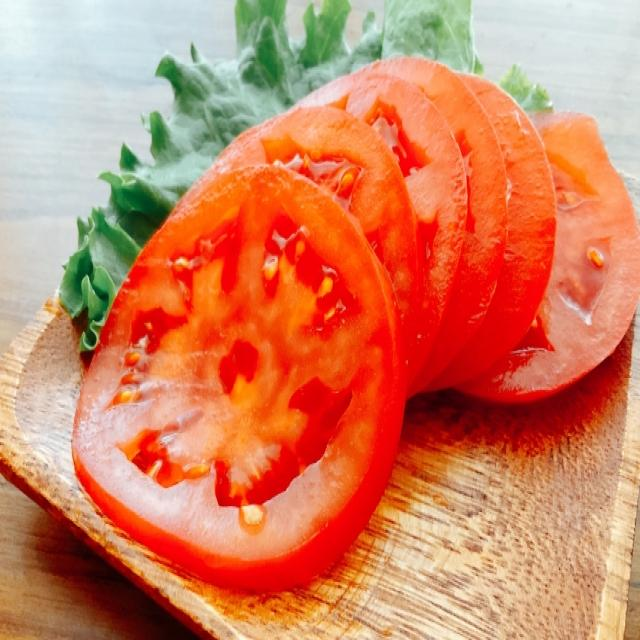Tomato: (66, 159, 410, 600), (218, 104, 426, 432), (288, 68, 470, 410), (370, 49, 509, 408), (487, 102, 639, 413), (418, 68, 558, 402)
